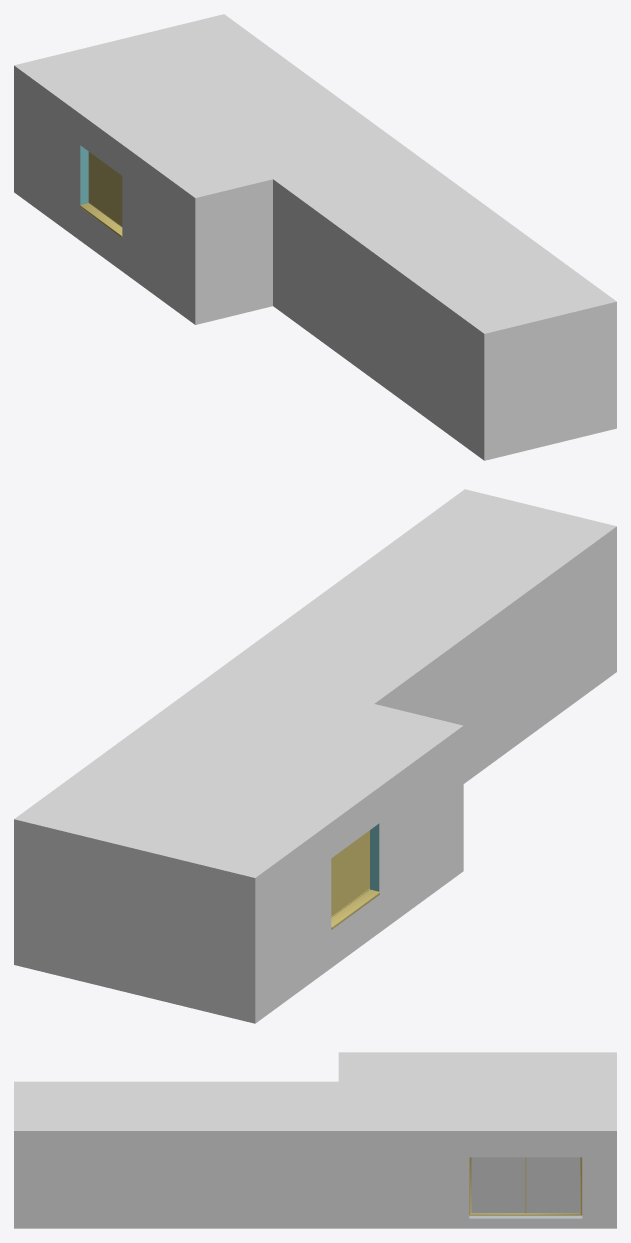
Rendered from Operating_room.fbx.
The picture shows the model from 3 angles, top to bottom: view 1: azimuth 30°, elevation 25°; view 2: azimuth 150°, elevation 25°; view 3: azimuth 270°, elevation 25°; orthographic projection. The views are drawn at different scales.
Parts seen in each view (by area): view 1: shadow_box, interior_3; view 2: shadow_box, interior_3; view 3: shadow_box, interior_5, walls.
Boxes of the visible parts, x1=… form: shadow_box: x1=14, y1=14, x2=616, y2=460; interior_3: x1=80, y1=152, x2=122, y2=237; shadow_box: x1=14, y1=489, x2=616, y2=1023; interior_3: x1=331, y1=830, x2=379, y2=929; shadow_box: x1=14, y1=1052, x2=616, y2=1228; interior_5: x1=469, y1=1157, x2=582, y2=1215; walls: x1=469, y1=1215, x2=582, y2=1218.
Bounding box in the file's own units: 698 × 402 × 2254.
